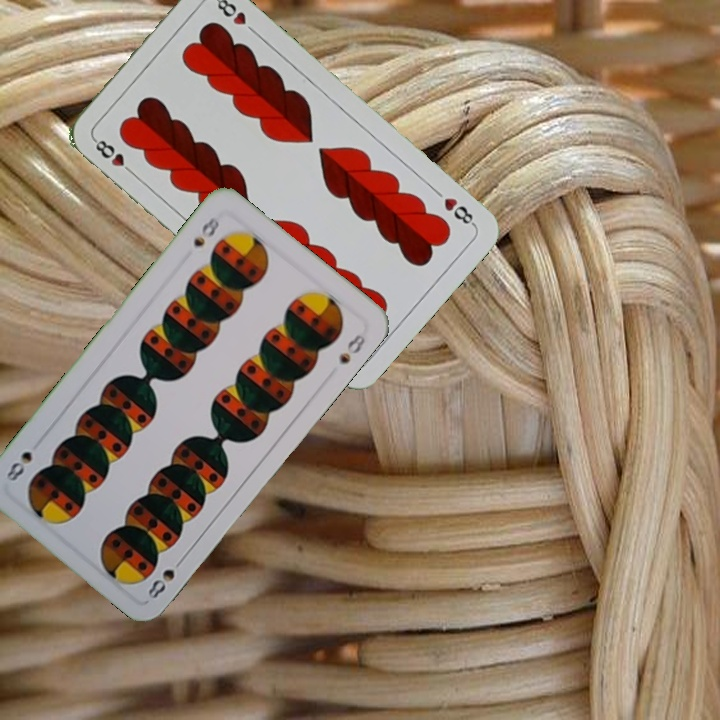H8: (89, 134, 138, 178), (440, 193, 478, 229)
S8: (143, 564, 178, 601), (189, 212, 222, 250)
